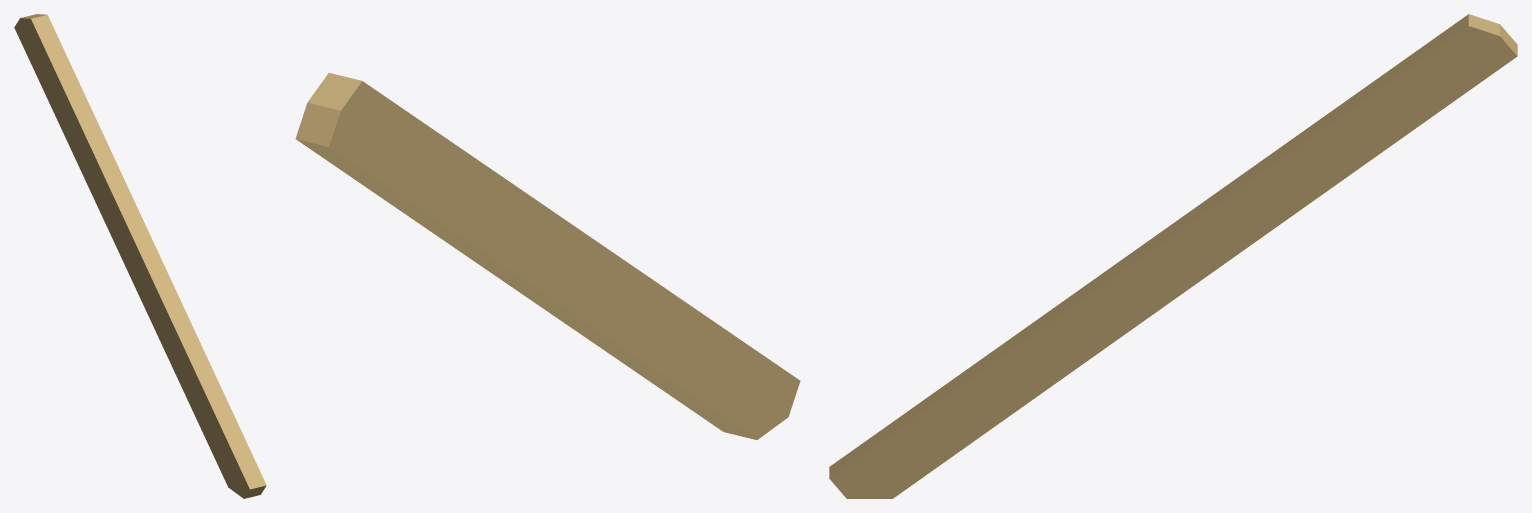
The picture shows the model from 3 angles, left to right: view 1: azimuth 30°, elevation 25°; view 2: azimuth 150°, elevation 25°; view 3: azimuth 270°, elevation 25°; orthographic projection. The views are drawn at different scales.
Parts seen in each view (by area): view 1: L1-3-S13-329-WEB03; view 2: L1-3-S13-329-WEB03; view 3: L1-3-S13-329-WEB03.
Part boxes in pixels (x1=…): L1-3-S13-329-WEB03: x1=14, y1=14, x2=266, y2=498; L1-3-S13-329-WEB03: x1=295, y1=73, x2=800, y2=439; L1-3-S13-329-WEB03: x1=829, y1=14, x2=1517, y2=498.
Size of the model in its own units: 0.045 by 0.8307 by 1.1.
